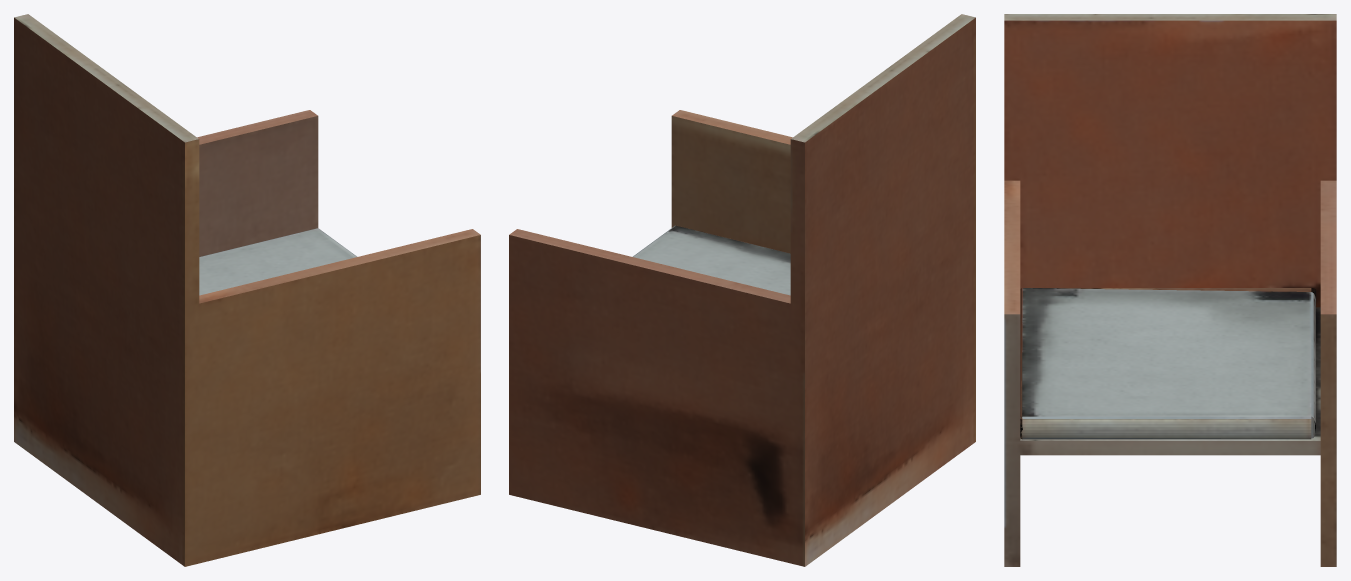
3 views of the same model, side by side, from view 1: azimuth 30°, elevation 25°; view 2: azimuth 150°, elevation 25°; view 3: azimuth 270°, elevation 25° (orthographic). The views are drawn at different scales.
Visible parts, largest first — view 1: Node; view 2: Node; view 3: Node.
Boxes of the visible parts, left/top/right/bottom form: Node: left=14, top=14, right=480, bottom=566; Node: left=509, top=14, right=975, bottom=566; Node: left=1004, top=14, right=1336, bottom=566.
Bounding box in the file's own units: 0.5109 × 0.7 × 0.5109.
Materials: 1 (1 with a texture image).
